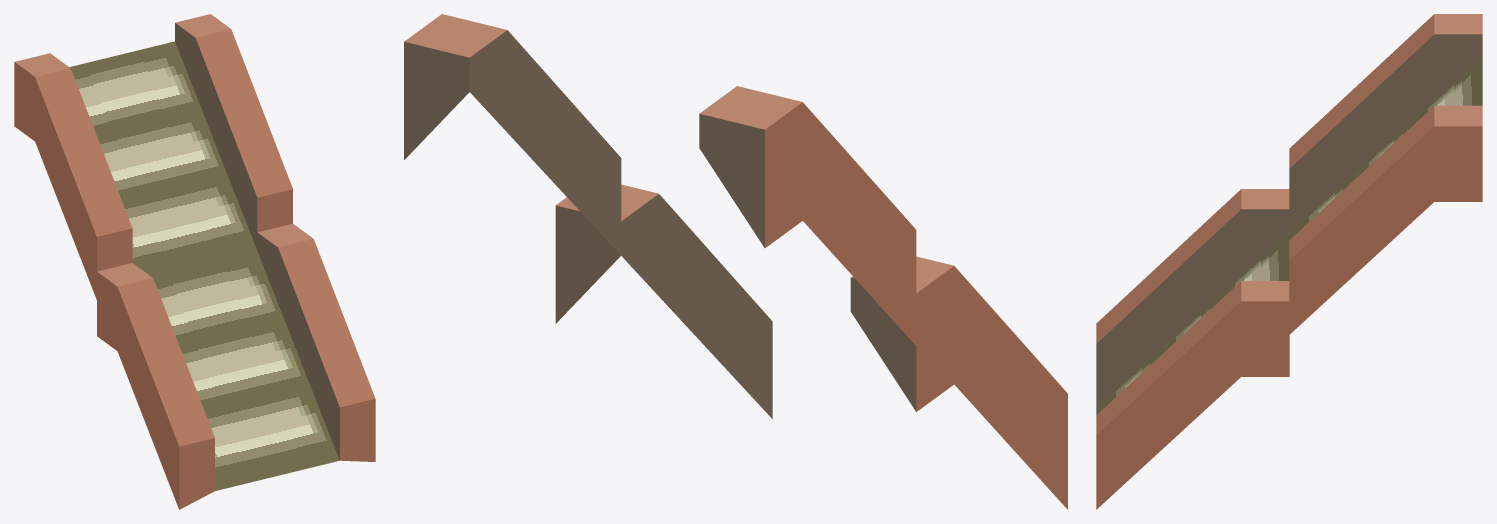
3 views of the same model, side by side, from view 1: azimuth 30°, elevation 25°; view 2: azimuth 150°, elevation 25°; view 3: azimuth 270°, elevation 25° (orthographic). The views are drawn at different scales.
Size of the model in its own units: 1.38 by 2.19 by 2.
1 material, 1 textured.
